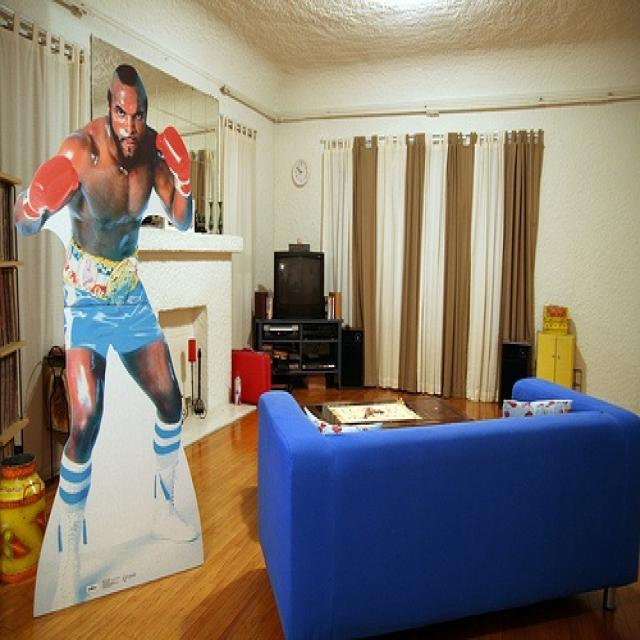sofa: (254, 379, 638, 638)
tvmonitor: (270, 248, 326, 323)
